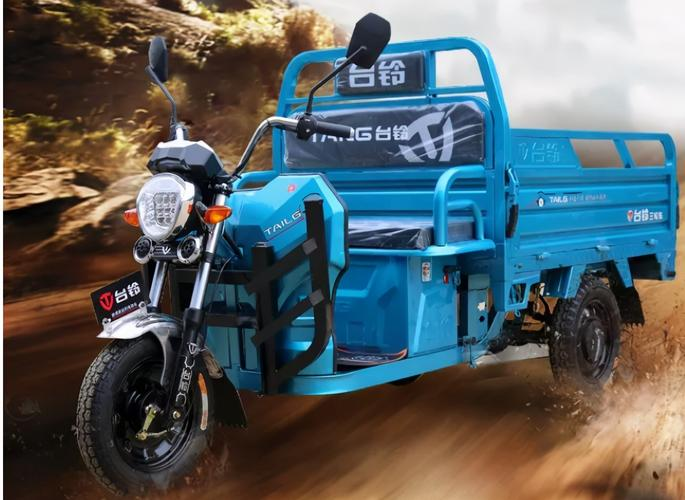empty: (93, 14, 685, 484)
